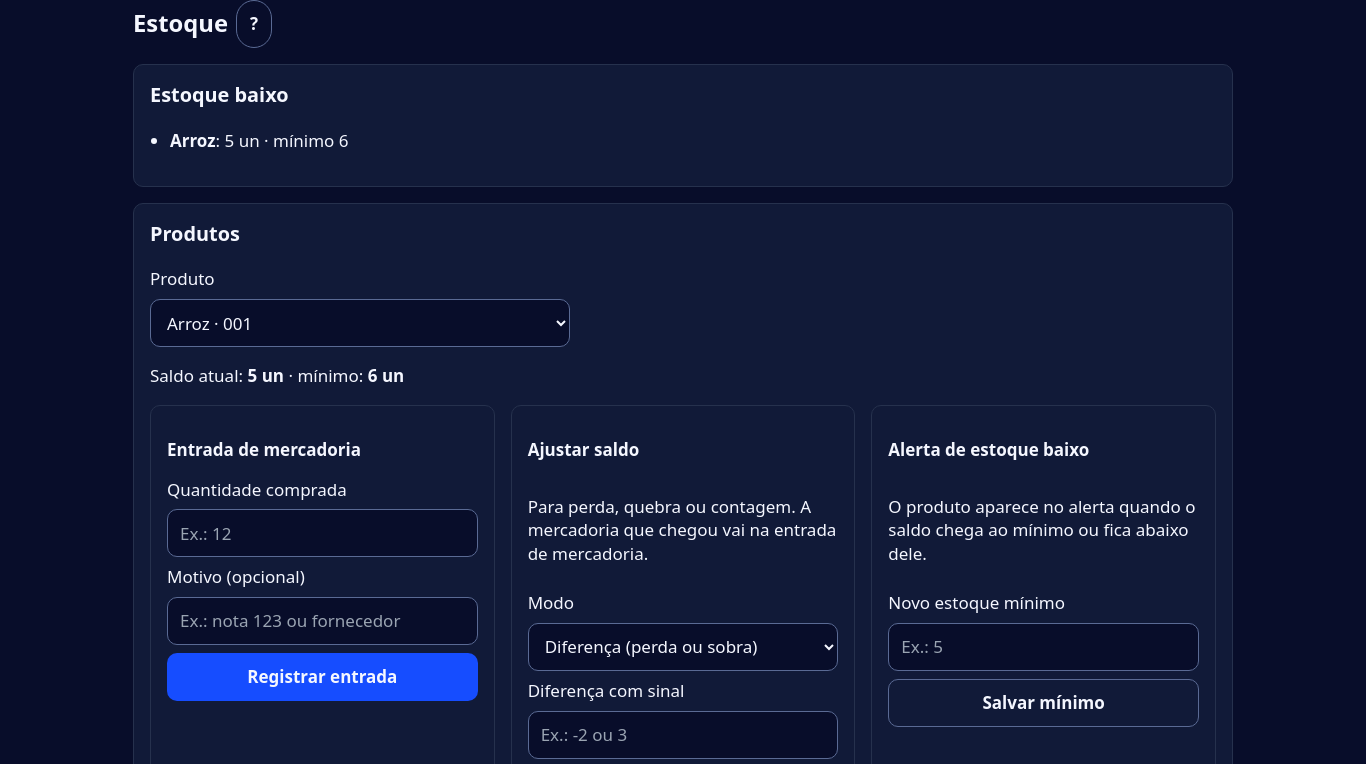
Test: estoque na tela › mostra o alerta e lança a diferença calculada de uma contagem
Expected: the heading "Estoque baixo" is shown, [150, 81, 288, 108]
Select "Contagem física" in the dropdown labelled "Modo" at point(683, 647), box [528, 623, 838, 671]
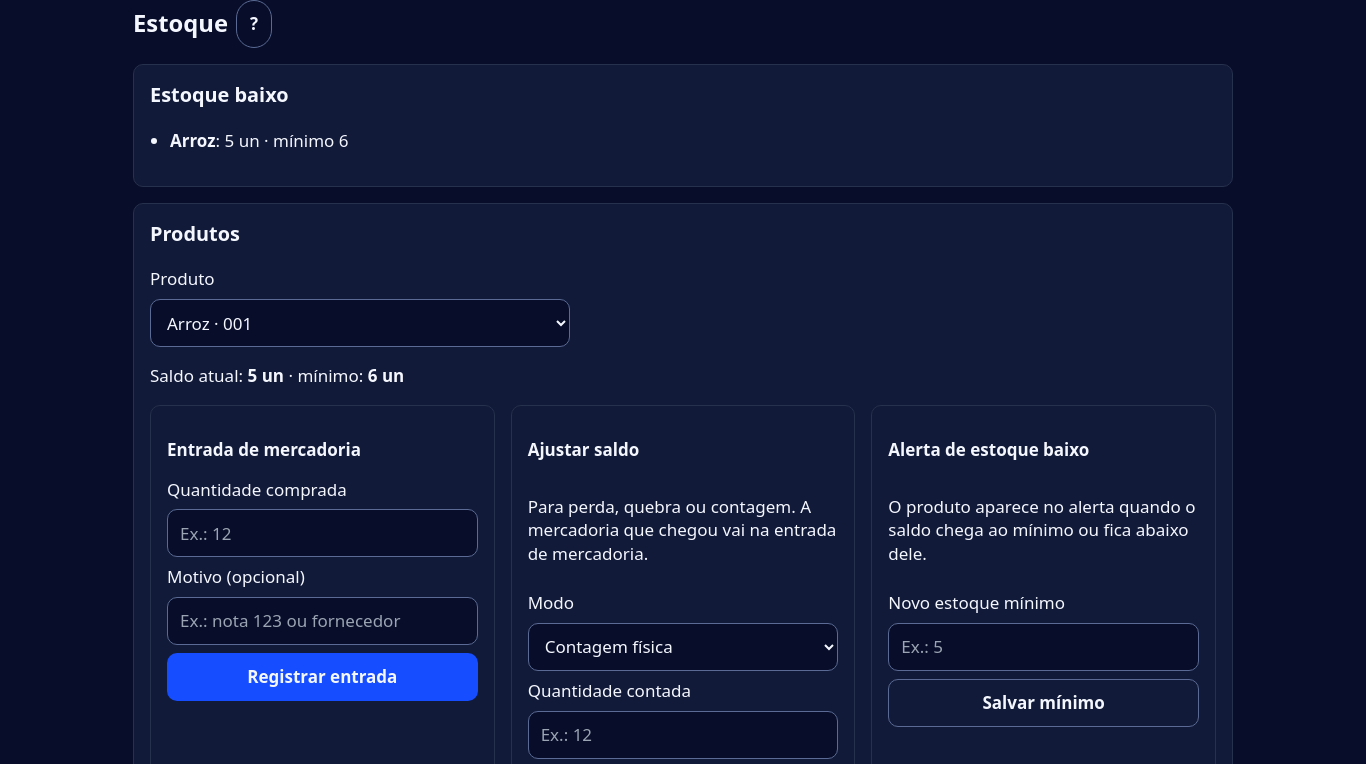
Type "3" into the field labelled "Quantidade contada" at point(683, 735), box [528, 711, 838, 759]
(page scrolled)
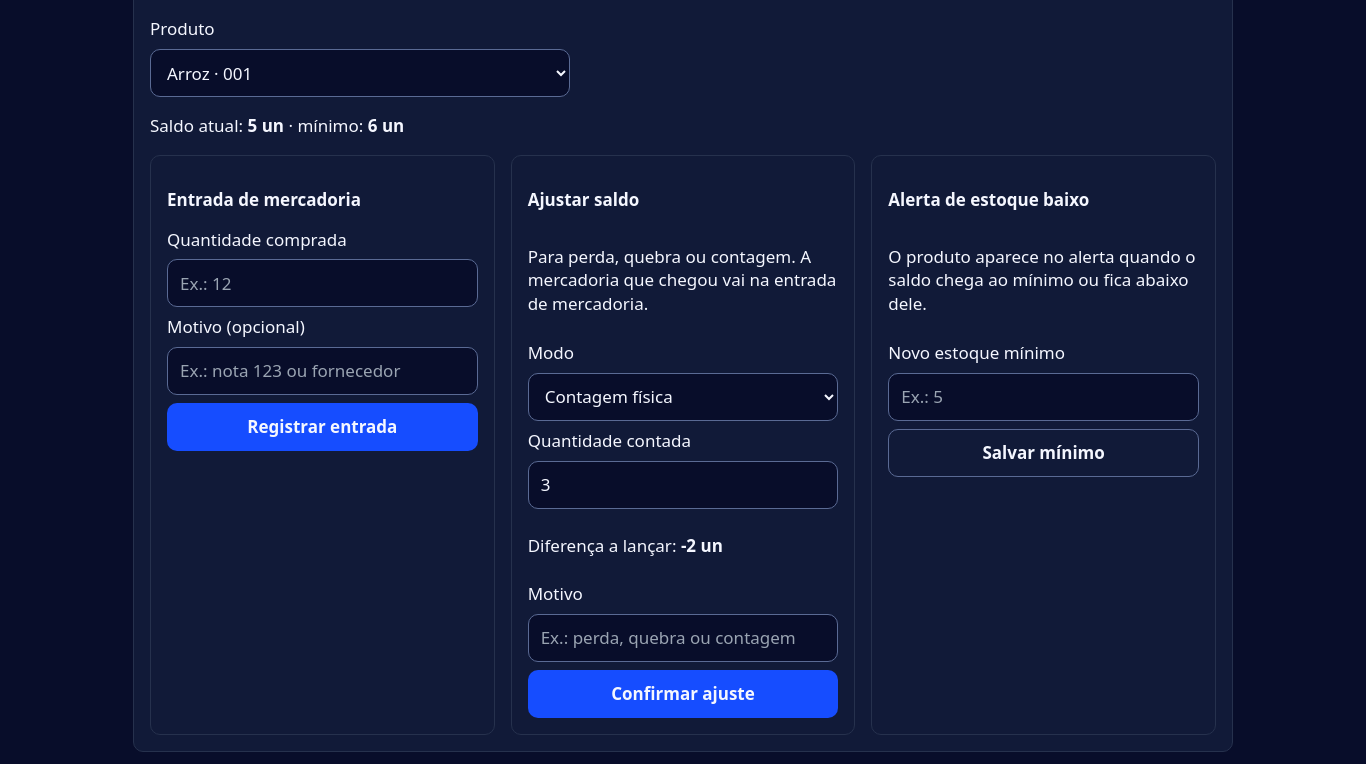
Now the text "Diferença a lançar: -2 un" is shown, box [528, 534, 723, 557]
Type "contagem do dia" into the field labelled "Motivo" at point(683, 638), box [528, 614, 838, 662]
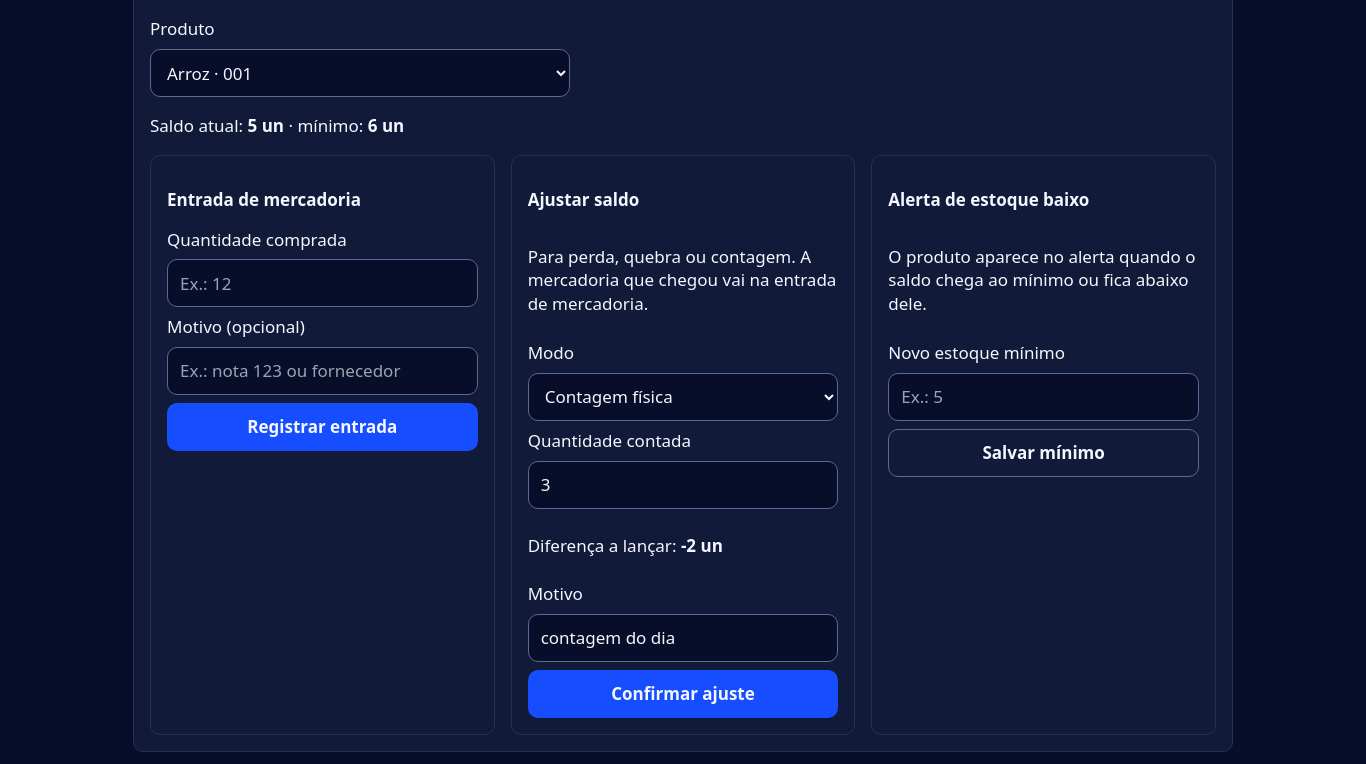
Click the button "Confirmar ajuste" at point(683, 694), box [528, 670, 838, 718]
(page scrolled)
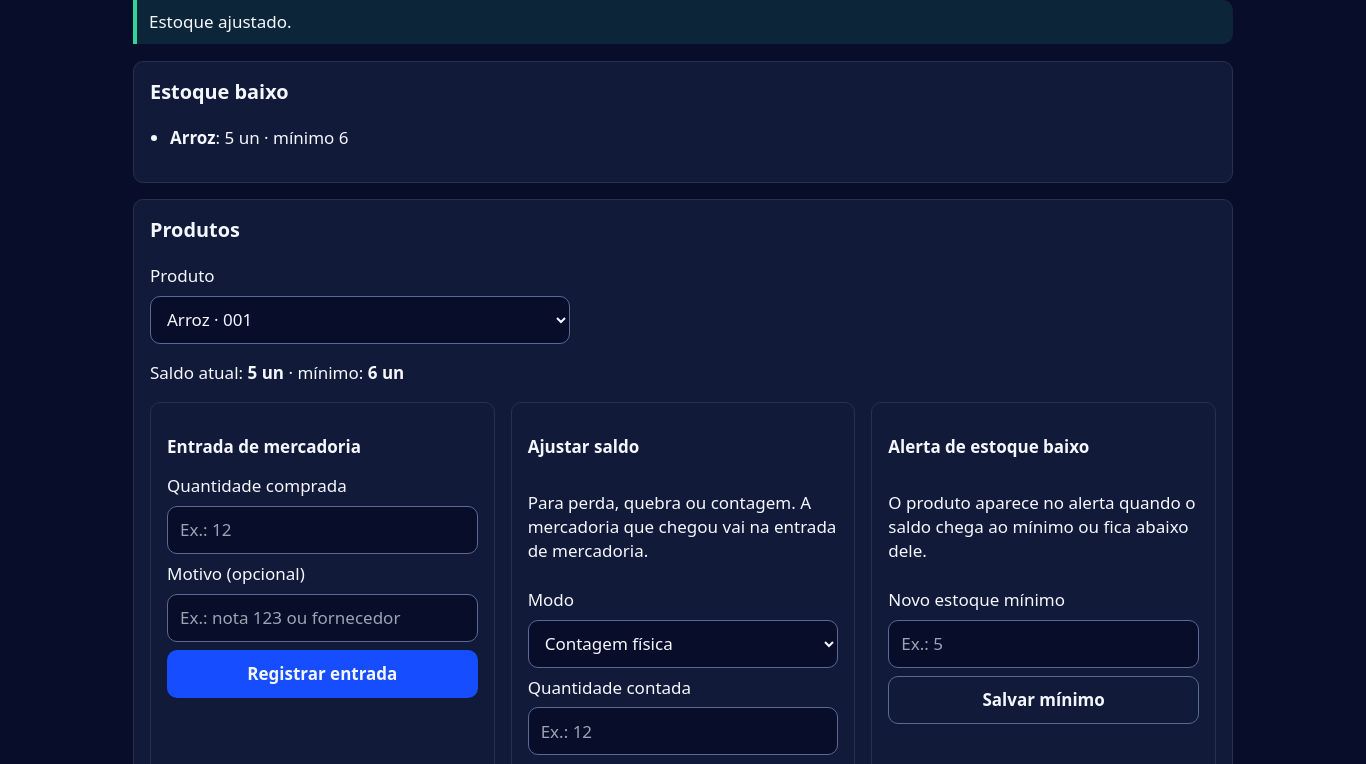
Now the message shows "Estoque ajustado", box [149, 10, 292, 33]
